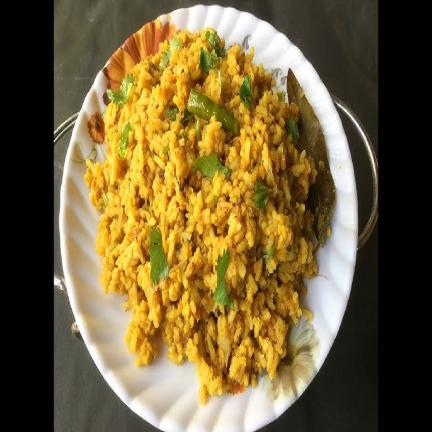khichuri: (85, 30, 323, 404)
